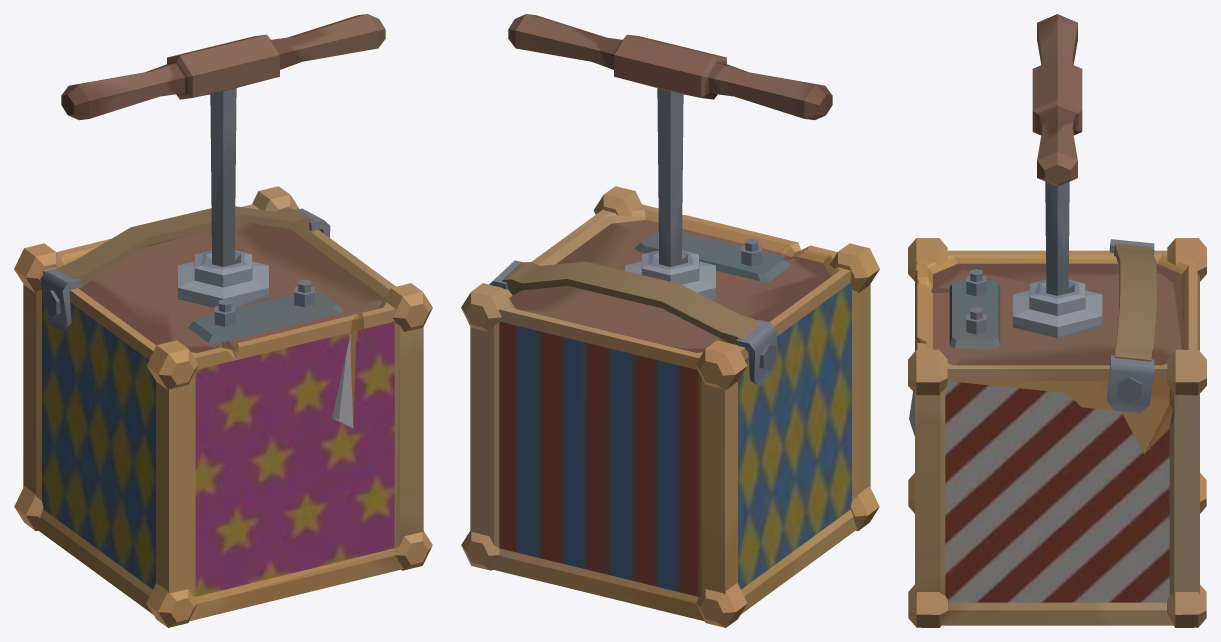
File: SM_Wep_Dynamite_Lever_01.glb
The picture shows the model from 3 angles, left to right: view 1: azimuth 30°, elevation 25°; view 2: azimuth 150°, elevation 25°; view 3: azimuth 270°, elevation 25°; orthographic projection. The views are drawn at different scales.
Visible parts, largest first — view 1: SM_Wep_Dynamite_Lever_01; view 2: SM_Wep_Dynamite_Lever_01; view 3: SM_Wep_Dynamite_Lever_01.
Boxes of the visible parts, left/top/right/bottom form: SM_Wep_Dynamite_Lever_01: left=14, top=14, right=432, bottom=627; SM_Wep_Dynamite_Lever_01: left=461, top=14, right=879, bottom=627; SM_Wep_Dynamite_Lever_01: left=908, top=14, right=1206, bottom=627.
Bounding box in the file's own units: 43.28 × 66.31 × 36.81.
1 material, 1 textured.
